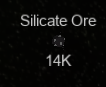Silicate: (20, 13, 96, 67)
